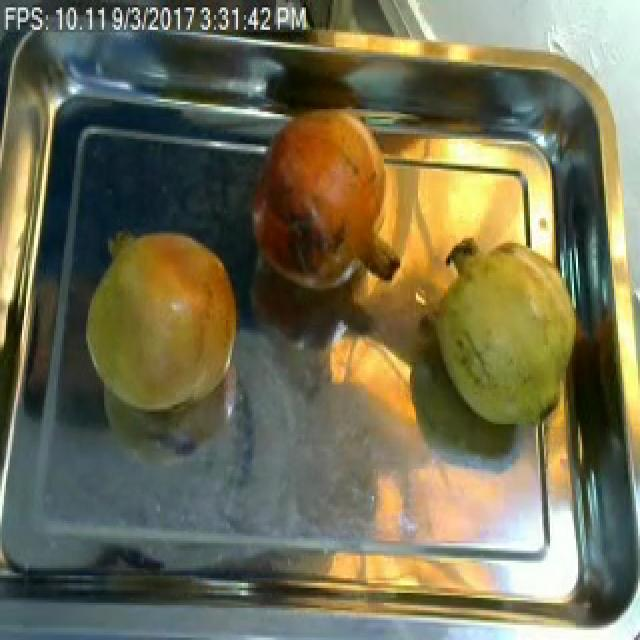fruit: (76, 211, 250, 427), (414, 228, 588, 437), (240, 99, 406, 303)
